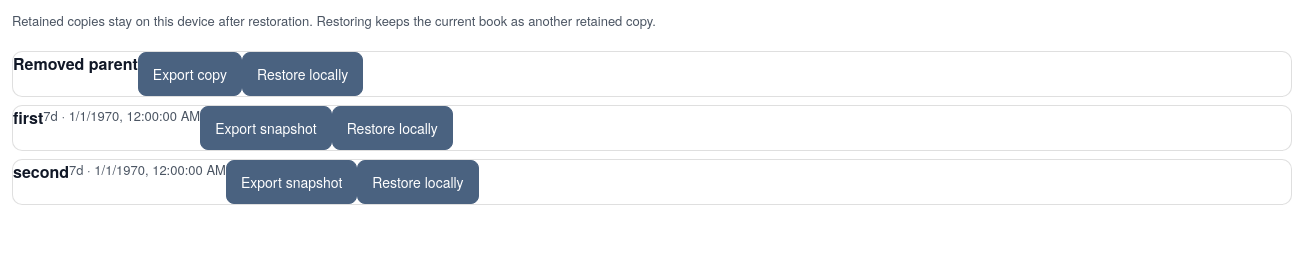
it: keeps retained entries reachable and displays a refused restoration
What coordinates should you click on to do the following:
click the button "Restore locally" in the row of "Removed parent"
I would click on:
 (303, 74)
Its box is [242,52,363,96].
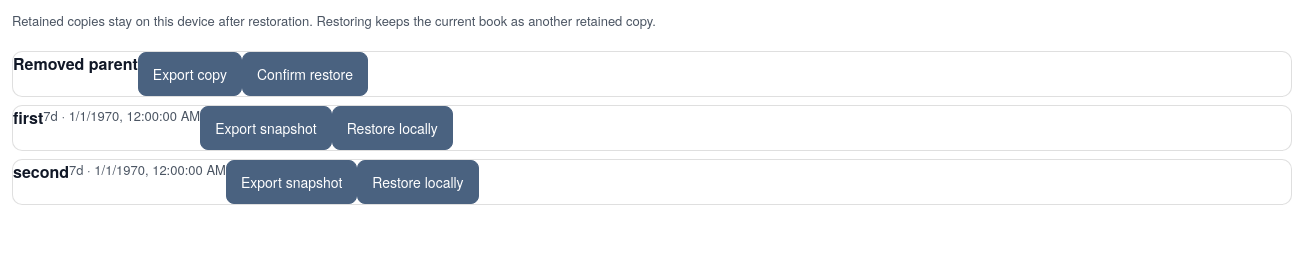
What coordinates should you click on to do the following:
click the button "Confirm restore"
I would click on:
 (305, 74)
Its box is [242,52,368,96].
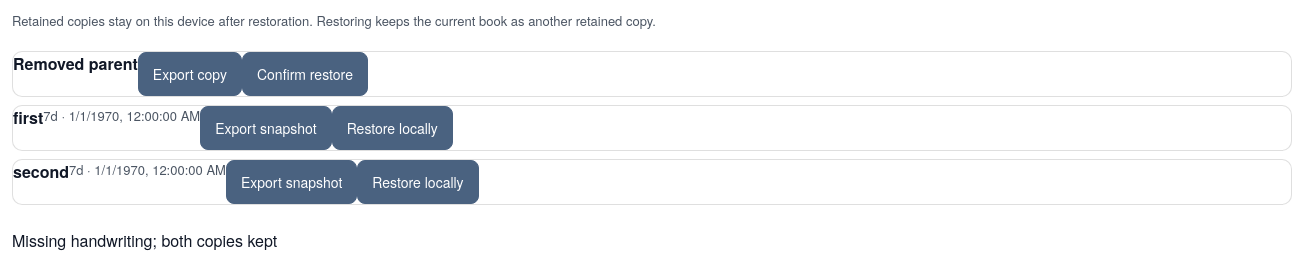
Check: the number of elements with class "lc-scratch-load-entry" is 3, box [12,51,1291,97]; [12,105,1291,151]; [12,159,1291,205]
Check: the message "Missing handwriting; both copies kept" is shown, box [12,229,277,252]
